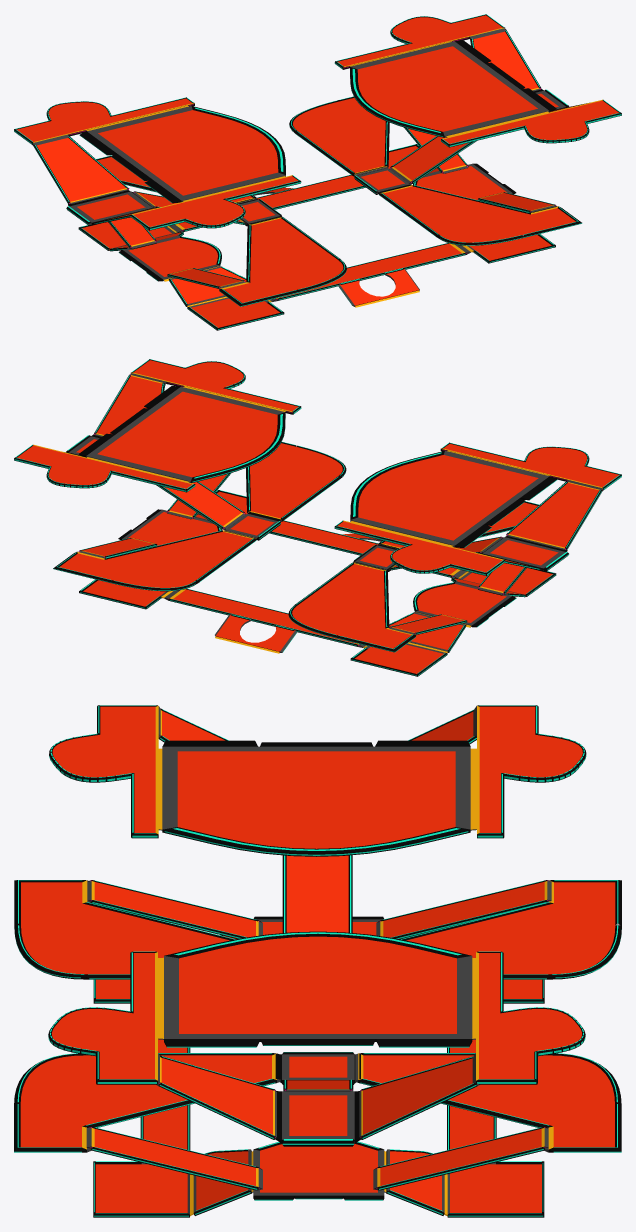
Rendered from Progeny All Platforms.FBX.
The picture shows the model from 3 angles, top to bottom: view 1: azimuth 30°, elevation 25°; view 2: azimuth 150°, elevation 25°; view 3: azimuth 270°, elevation 25°; orthographic projection. The views are drawn at different scales.
Parts seen in each view (by area): view 1: Box027, Box031, 3rd Level Landing (×2), 3rd Level Landing001, Box029, Box030, Platform to second Level015, Box032, Box026, Box016, Platform to second Level006, Box011 (+16 smaller); view 2: Box031, Box027, 3rd Level Landing (×2), 3rd Level Landing002, Platform to second Level016, Box026, Box032, Box030, Box029, Box016, Platform to second Level001, Box011 (+16 smaller); view 3: Box027, Box031, 3rd Level Landing (×2), 3rd Level Landing001, 3rd Level Landing002, Box032, Box026, Box029, Box030, Box011, Platform to second Level014, Box013 (+19 smaller).
Part boxes in pixels (x1,y1,x2,y2): Box027: [79, 105, 285, 203]; Box031: [350, 40, 556, 137]; 3rd Level Landing (×2): [289, 96, 582, 245]; 3rd Level Landing001: [219, 216, 346, 306]; Box029: [130, 175, 301, 230]; Box030: [441, 99, 621, 147]; Platform to second Level015: [33, 136, 129, 204]; Box032: [334, 14, 505, 69]; Box026: [14, 97, 194, 145]; Box016: [118, 236, 221, 281]; Platform to second Level006: [270, 243, 470, 301]; Box011: [413, 163, 516, 200]; Box031: [78, 386, 285, 483]; Box027: [350, 450, 556, 547]; 3rd Level Landing (×2): [53, 442, 346, 591]; 3rd Level Landing002: [288, 562, 416, 652]; Platform to second Level016: [506, 481, 602, 549]; Box026: [334, 520, 505, 575]; Box032: [14, 444, 195, 492]; Box030: [130, 359, 301, 414]; Box029: [440, 442, 621, 490]; Box016: [413, 582, 516, 627]; Platform to second Level001: [164, 588, 365, 647]; Box011: [118, 509, 221, 545]; Box027: [158, 740, 476, 856]; Box031: [158, 931, 475, 1047]; 3rd Level Landing (×2): [14, 1053, 621, 1152]; 3rd Level Landing001: [14, 880, 235, 979]; 3rd Level Landing002: [401, 880, 621, 979]; Box032: [472, 951, 585, 1084]; Box026: [473, 705, 586, 838]; Box029: [49, 705, 160, 838]; Box030: [48, 951, 160, 1084]; Box011: [251, 1141, 386, 1200]; Platform to second Level014: [282, 855, 352, 932]; Box013: [444, 1161, 544, 1217].
Bounding box in the file's own units: 110 × 27.96 × 73.8.
